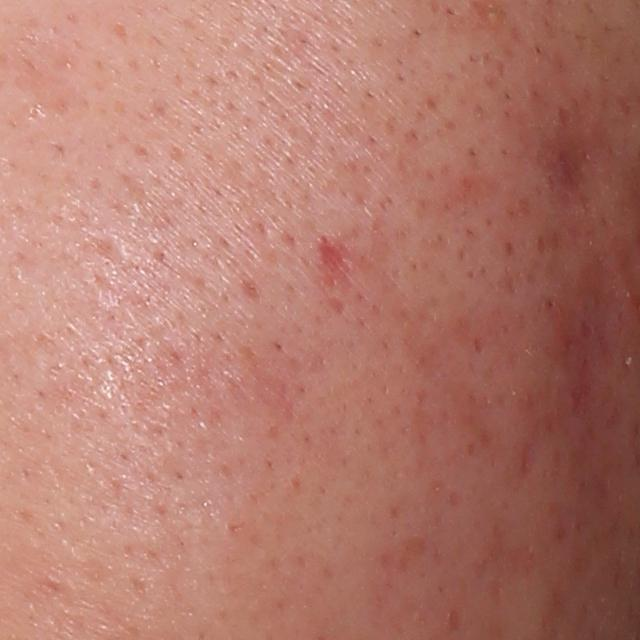atrophic_scar: (559, 258, 635, 529), (321, 242, 348, 296)
